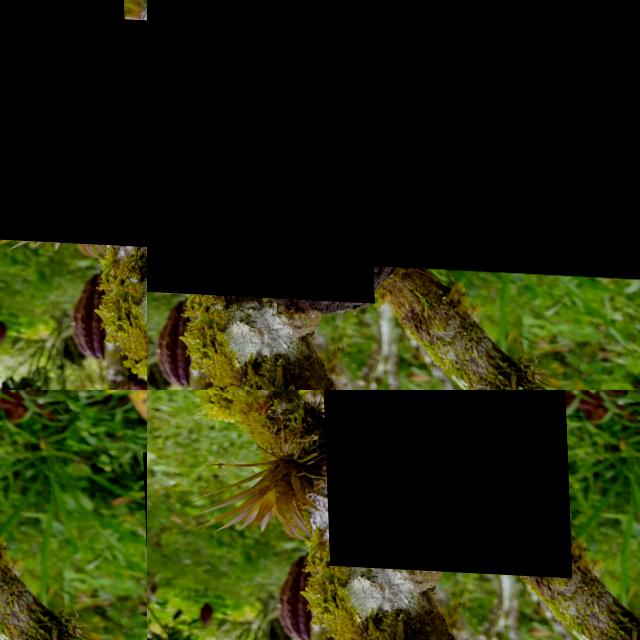Fitoftora: (342, 0, 640, 273), (147, 0, 370, 299), (316, 390, 568, 573)
Monilia: (0, 48, 147, 257)
Sana: (3, 12, 147, 98), (0, 0, 124, 72)
